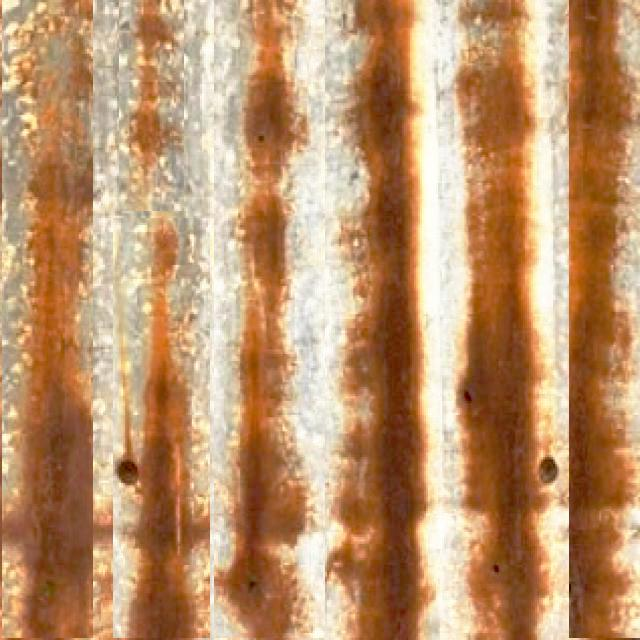Corrosion: (328, 0, 425, 640), (458, 0, 546, 640), (218, 0, 305, 640), (19, 39, 91, 640), (570, 0, 632, 640), (129, 220, 194, 640), (127, 0, 172, 176), (1, 496, 20, 550), (190, 516, 209, 548), (115, 460, 138, 486), (539, 458, 559, 485), (91, 524, 111, 546)
